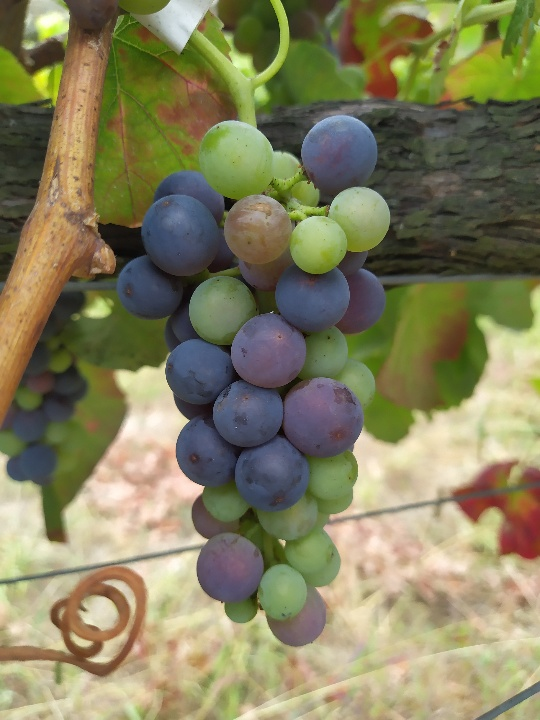grape: (115, 110, 394, 649)
